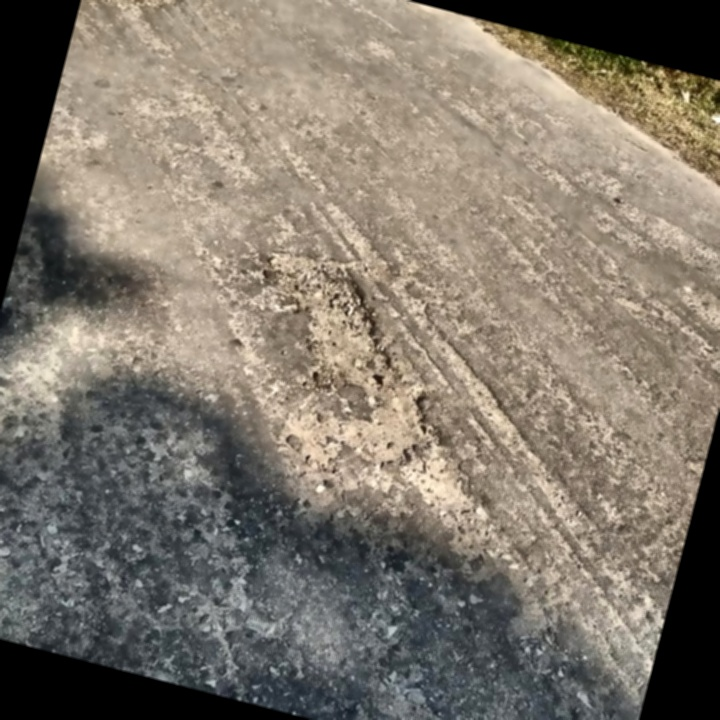pothole: (217, 240, 475, 492)
